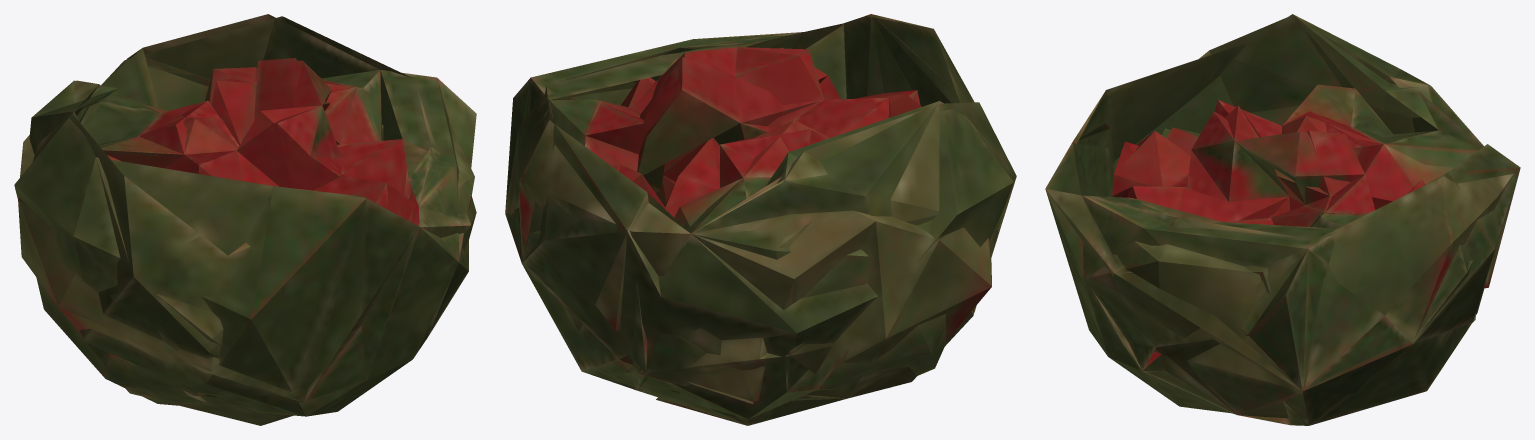
The model's file is sanddalgi.glb.
3 views of the same model, side by side, from view 1: azimuth 30°, elevation 25°; view 2: azimuth 150°, elevation 25°; view 3: azimuth 270°, elevation 25° (orthographic). The views are drawn at different scales.
Bounding box in the file's own units: 1.89 × 1.32 × 1.85.
Materials: 1 (1 with a texture image).
